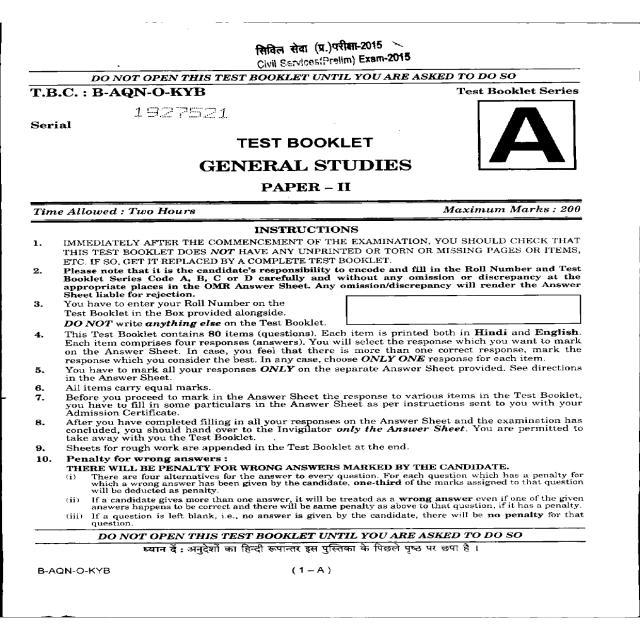Instruction: (11, 5, 628, 626)
Question_Paper_Area: (11, 5, 628, 626)
